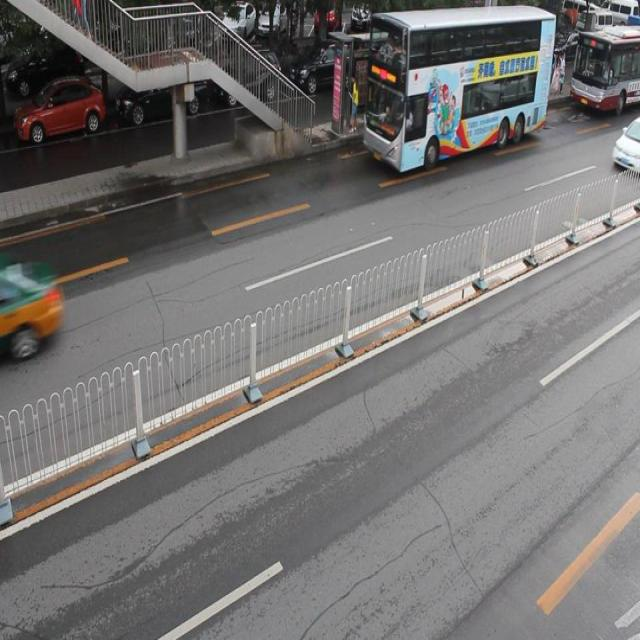car: (15, 75, 106, 143), (118, 60, 207, 121), (289, 37, 360, 91), (221, 44, 280, 102), (610, 118, 640, 175)
van: (363, 1, 554, 172), (568, 29, 640, 113)
